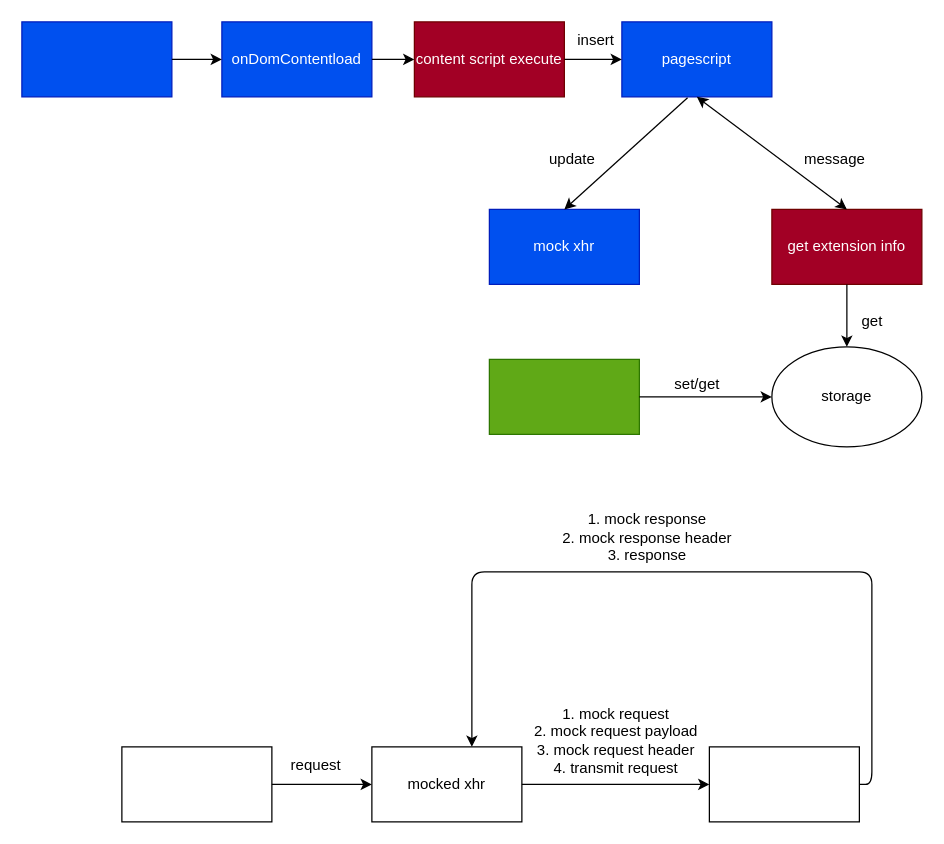
Some shapes in this 944 by 844 pixel diagram are drawn without their labels. Here are the shapes that lost their labels. From the top down, the box of each, then its label:
(21, 21, 172, 97): parser html
(488, 358, 639, 434): extension pop
(121, 746, 272, 822): start
(708, 746, 859, 822): xhr
